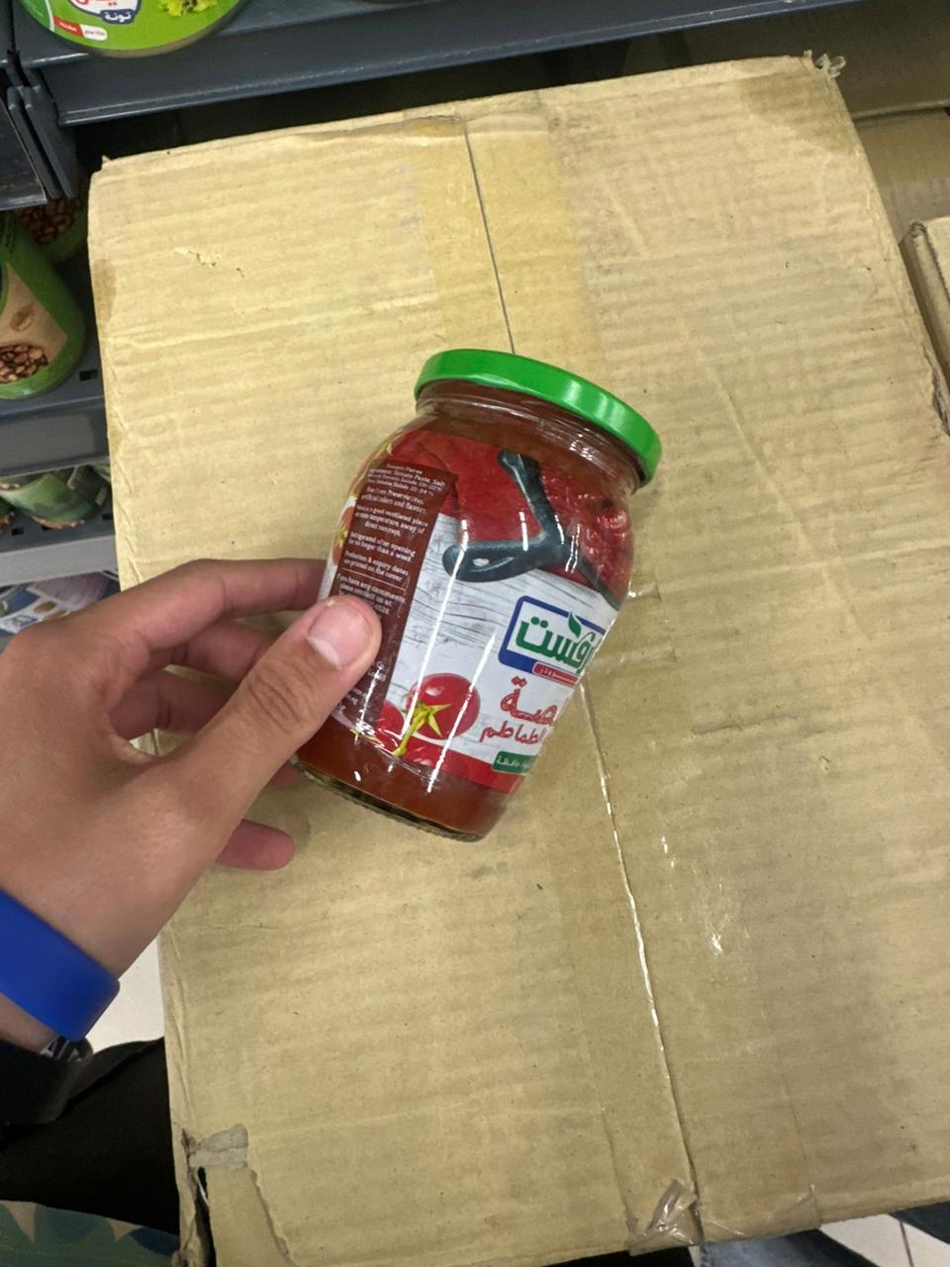tomato_puree: (416, 349, 661, 480)
